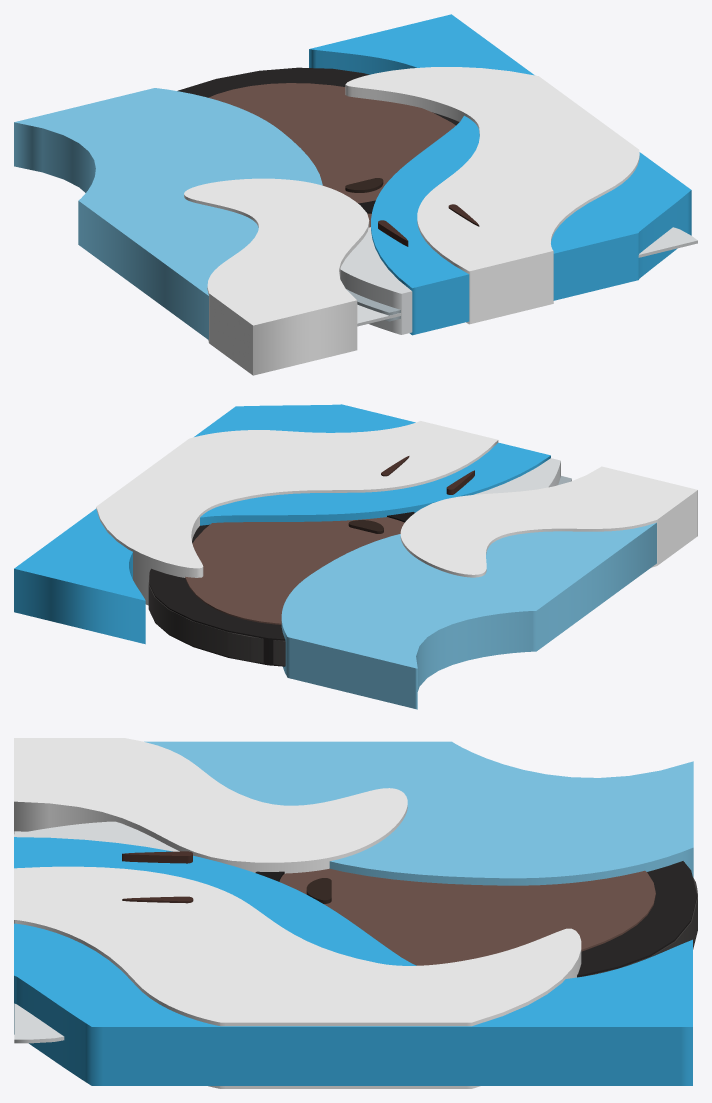
The model's file is emoji_u1f9d6_1f3ff_200d_2642.glb.
3 renders of one model, top to bottom at view 1: azimuth 30°, elevation 25°; view 2: azimuth 150°, elevation 25°; view 3: azimuth 270°, elevation 25°, orthographic. The views are drawn at different scales.
Parts seen in each view (by area): view 1: emoji_u1f9d6_1f3ff_200d_2642; view 2: emoji_u1f9d6_1f3ff_200d_2642; view 3: emoji_u1f9d6_1f3ff_200d_2642.
Boxes of the visible parts, box(x1,y1,x2,y2) form: emoji_u1f9d6_1f3ff_200d_2642: box(14, 14, 697, 375); emoji_u1f9d6_1f3ff_200d_2642: box(14, 404, 697, 709); emoji_u1f9d6_1f3ff_200d_2642: box(14, 738, 697, 1088).
Bounding box in the file's own units: 0.0334 × 0.004 × 0.0336.
